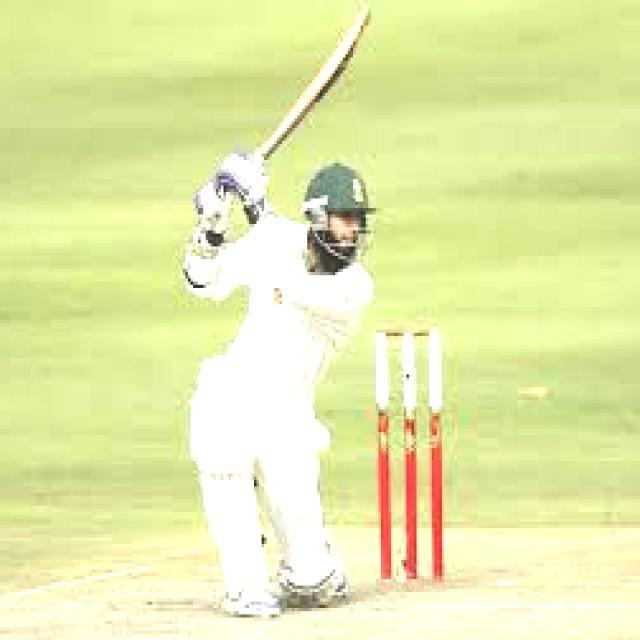bat: (250, 0, 373, 160)
toe: (362, 0, 375, 18)
